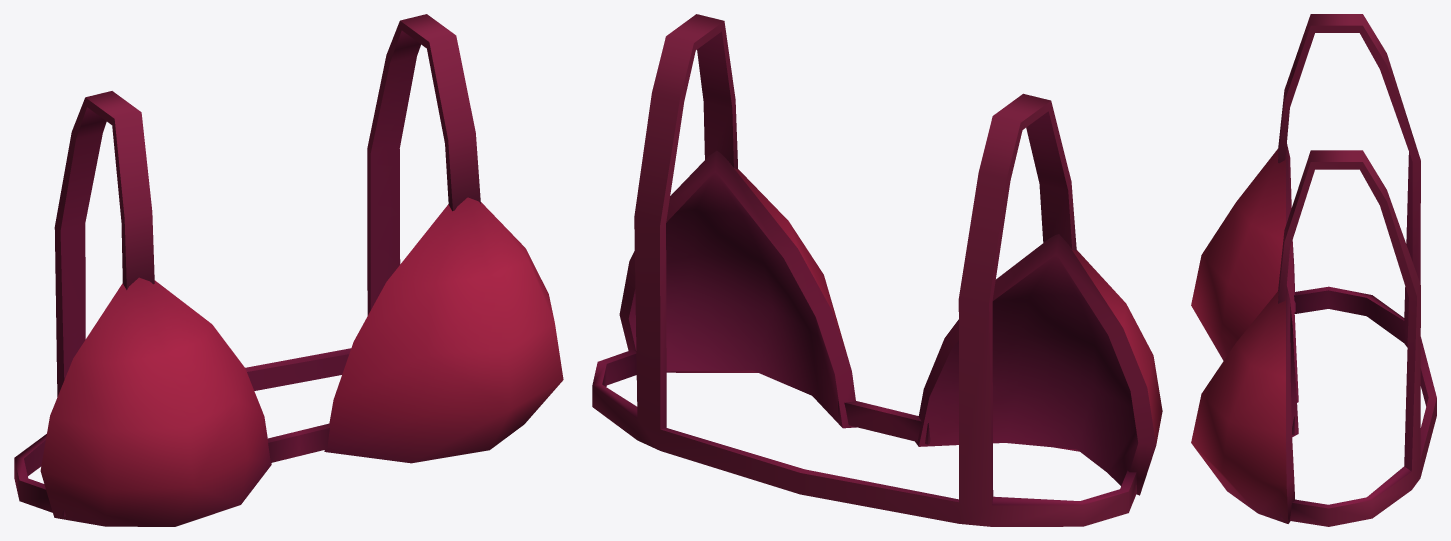
File: human-clothing-bra_v1.glb
3 views of the same model, side by side, from view 1: azimuth 30°, elevation 25°; view 2: azimuth 150°, elevation 25°; view 3: azimuth 270°, elevation 25° (orthographic). The views are drawn at different scales.
Visible parts, largest first — view 1: Bra; view 2: Bra; view 3: Bra.
Part boxes in pixels (left/top/right/bottom): Bra: left=14, top=14, right=563, bottom=526; Bra: left=592, top=14, right=1162, bottom=526; Bra: left=1191, top=14, right=1436, bottom=526.
Bounding box in the file's own units: 0.3 × 0.2092 × 0.1391.
